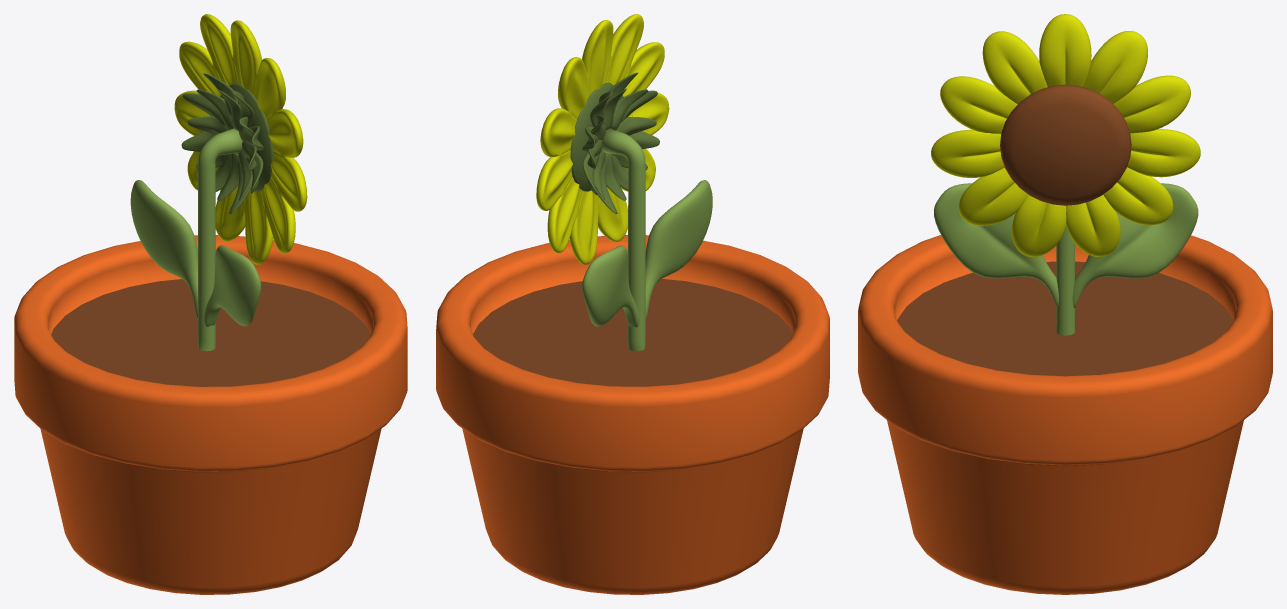
Rendered from sunflower_soft.glb.
3 views of the same model, side by side, from view 1: azimuth 30°, elevation 25°; view 2: azimuth 150°, elevation 25°; view 3: azimuth 270°, elevation 25° (orthographic). The views are drawn at different scales.
Visible parts, largest first — view 1: Pot.001, Plane, Plane.005, Cylinder.001, Plane.004, Plane.003, Plane.001, Circle.002; view 2: Pot.001, Plane, Plane.004, Cylinder.001, Plane.005, Plane.001, Plane.003, Circle.002; view 3: Pot.001, Plane, Circle.001, Plane.005, Plane.004, Cylinder.001.
Part boxes in pixels (x1=…): Pot.001: x1=14, y1=235, x2=407, y2=594; Plane: x1=174, y1=14, x2=307, y2=264; Plane.005: x1=130, y1=180, x2=197, y2=319; Cylinder.001: x1=198, y1=128, x2=242, y2=351; Plane.004: x1=204, y1=245, x2=261, y2=326; Plane.003: x1=181, y1=73, x2=263, y2=214; Plane.001: x1=187, y1=89, x2=256, y2=200; Circle.002: x1=220, y1=83, x2=273, y2=191; Pot.001: x1=436, y1=235, x2=829, y2=594; Plane: x1=536, y1=14, x2=669, y2=264; Plane.004: x1=645, y1=180, x2=712, y2=319; Cylinder.001: x1=602, y1=128, x2=645, y2=351; Plane.005: x1=582, y1=245, x2=639, y2=327; Plane.001: x1=587, y1=88, x2=656, y2=200; Plane.003: x1=582, y1=72, x2=659, y2=213; Circle.002: x1=570, y1=83, x2=623, y2=191; Pot.001: x1=858, y1=235, x2=1272, y2=594; Plane: x1=931, y1=14, x2=1200, y2=257; Circle.001: x1=1000, y1=84, x2=1131, y2=205; Plane.005: x1=1072, y1=183, x2=1198, y2=307; Plane.004: x1=934, y1=183, x2=1058, y2=307; Cylinder.001: x1=1056, y1=226, x2=1074, y2=335.
Size of the model in its own units: 0.6632 by 0.9482 by 0.6632.
